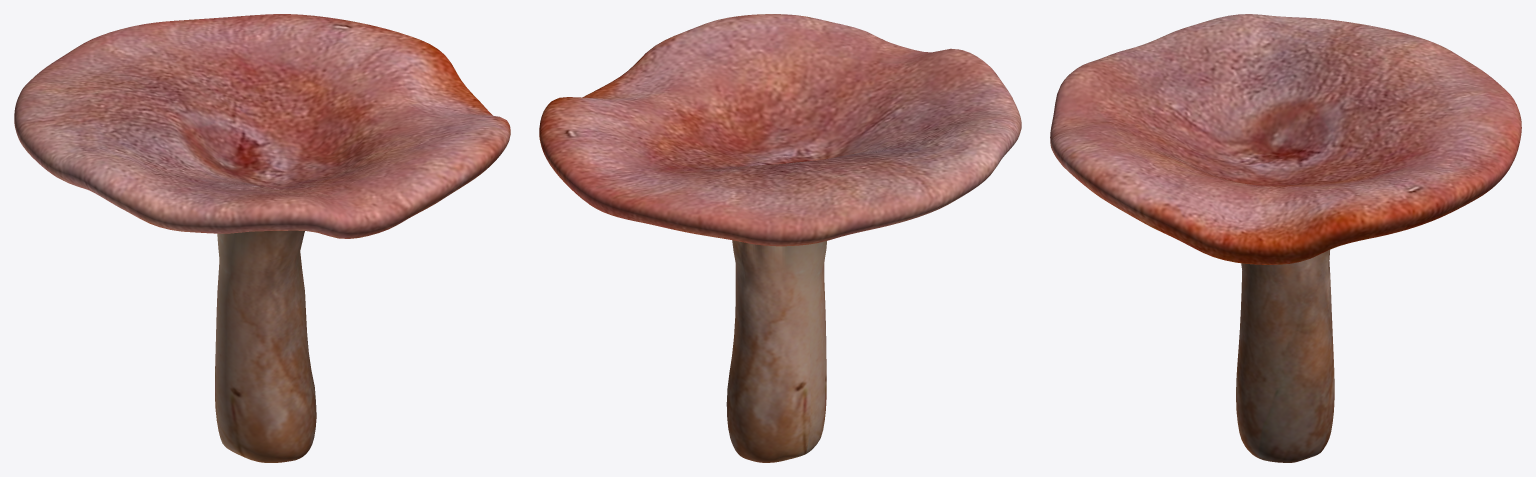
File: SENE_25.fbx
3 views of the same model, side by side, from view 1: azimuth 30°, elevation 25°; view 2: azimuth 150°, elevation 25°; view 3: azimuth 270°, elevation 25° (orthographic). The views are drawn at different scales.
Parts seen in each view (by area): view 1: SENE_25; view 2: SENE_25; view 3: SENE_25.
Part boxes in pixels (x1=…): SENE_25: x1=14, y1=14, x2=510, y2=462; SENE_25: x1=539, y1=14, x2=1021, y2=462; SENE_25: x1=1050, y1=14, x2=1521, y2=462.
Size of the model in its own units: 75.38 by 60.96 by 76.12.
Materials: 1 (1 with a texture image).
